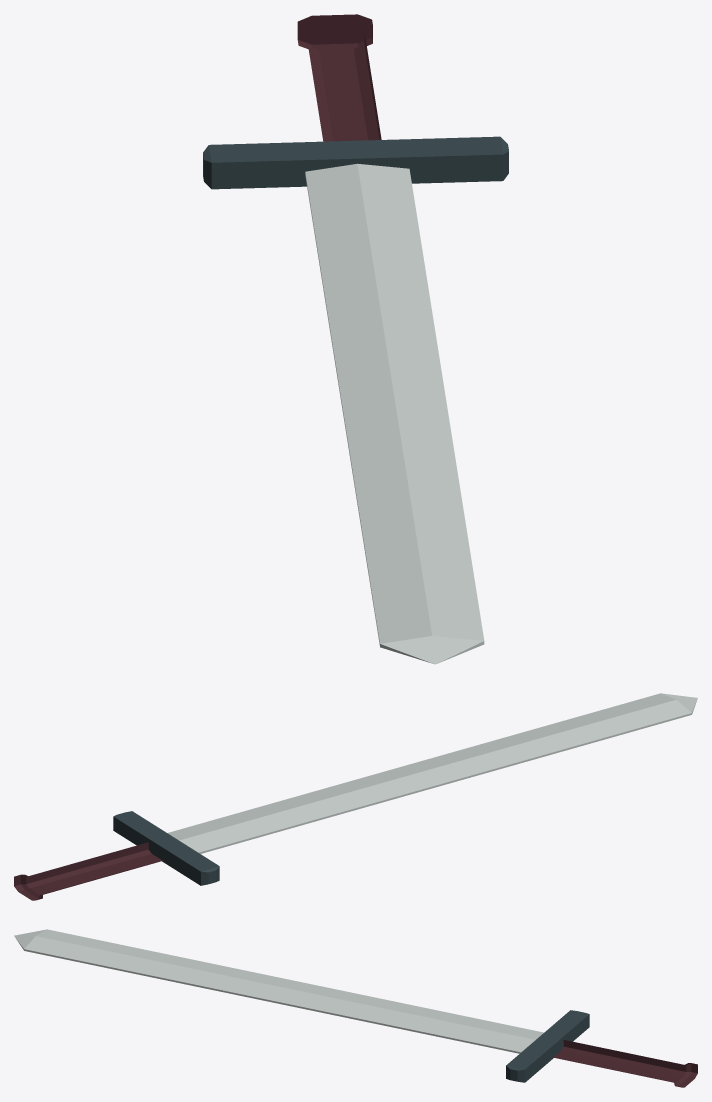
The model's file is olddagger.glb.
3 views of the same model, one above another, from view 1: azimuth 30°, elevation 25°; view 2: azimuth 150°, elevation 25°; view 3: azimuth 270°, elevation 25° (orthographic). The views are drawn at different scales.
Parts seen in each view (by area): view 1: bladeIronSword, guardIronSword, gripIronSword; view 2: bladeIronSword, gripIronSword, guardIronSword; view 3: bladeIronSword, gripIronSword, guardIronSword.
Boxes of the visible parts, bbox=[...] form: bladeIronSword: bbox=[305, 163, 484, 664]; guardIronSword: bbox=[203, 136, 508, 189]; gripIronSword: bbox=[297, 14, 381, 141]; bladeIronSword: bbox=[167, 693, 697, 853]; gripIronSword: bbox=[14, 842, 163, 900]; guardIronSword: bbox=[113, 811, 219, 885]; bladeIronSword: bbox=[14, 929, 543, 1053]; gripIronSword: bbox=[552, 1040, 697, 1087]; guardIronSword: bbox=[506, 1010, 589, 1082].
Bounding box in the file's own units: 0.9733 × 0.043 × 1.84.
